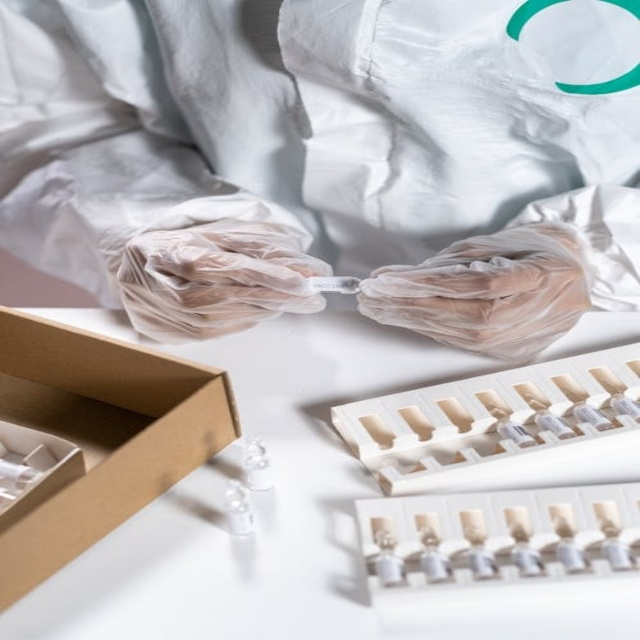Guantes: (355, 221, 604, 365), (112, 217, 339, 346)
